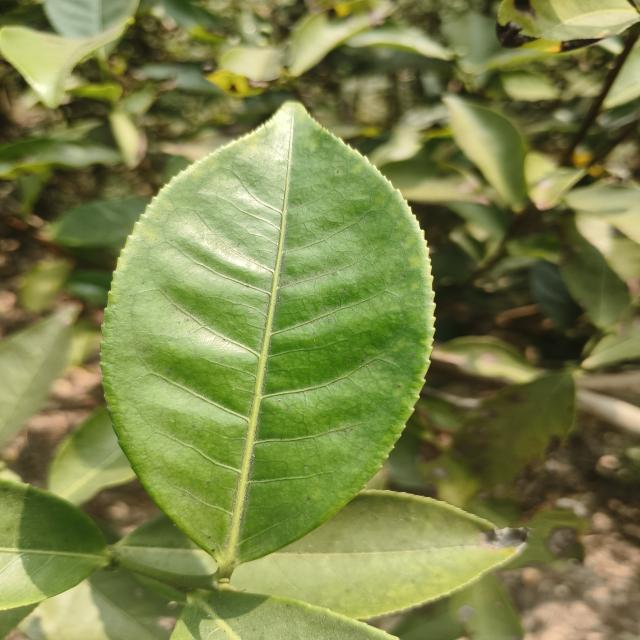Leaf: (102, 103, 434, 577), (231, 490, 526, 619), (419, 372, 576, 508), (0, 480, 110, 610), (19, 568, 181, 640), (170, 590, 395, 640), (0, 306, 77, 446), (0, 22, 125, 108), (443, 94, 527, 209), (48, 407, 135, 505), (288, 0, 391, 76), (559, 219, 629, 328), (496, 0, 640, 52), (114, 516, 216, 584), (379, 148, 488, 203), (52, 198, 148, 251), (0, 137, 121, 179), (432, 336, 538, 383), (346, 24, 454, 60), (43, 0, 139, 39), (564, 182, 640, 215), (109, 108, 146, 168), (500, 71, 559, 101)
